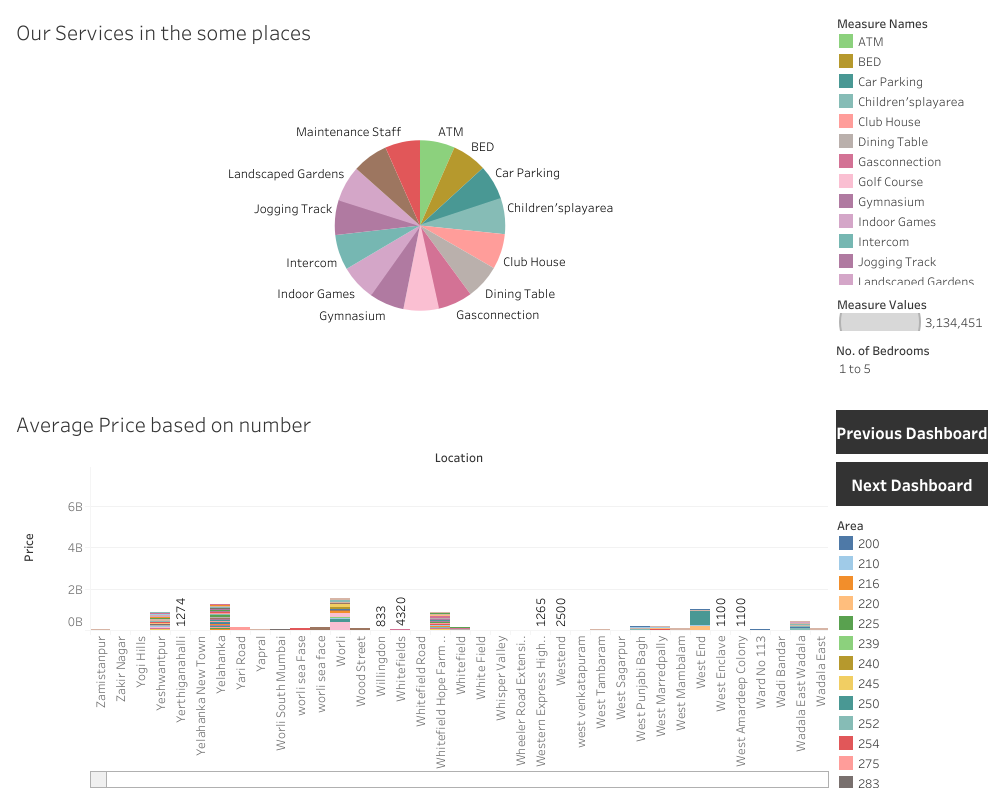

The page's visual inventory and layout, read from the dashboard file:
{"tool":"tableau","page":{"name":"Dashboard 3","canvas":[1000,800],"ordinal":2},"visuals":[{"type":"worksheet","title":"Sheet 9","mark":"Pie","box":[8,8,824,392]},{"type":"legend","title":"Sheet 9","param":"[federated.051ejo61k5k1d71gc72n81ba1xm3].[:Measure Names]","box":[832,8,160,282.5]},{"type":"legend","title":"Sheet 9","param":"[federated.051ejo61k5k1d71gc72n81ba1xm3].[Multiple Values]","box":[832,290.5,160,46]},{"type":"filter","title":"Sheet 5","param":"[federated.051ejo61k5k1d71gc72n81ba1xm3].[attr:No. of Bedrooms:qk]","box":[832,336.5,160,69]},{"type":"worksheet","title":"Sheet 5","mark":"Automatic","rows":["Price"],"cols":["Location"],"box":[8,400,824,392]},{"type":"dashboard-object","box":[832,405.5,160,52]},{"type":"dashboard-object","box":[832,457.5,160,52]},{"type":"legend","title":"Sheet 5","param":"[federated.051ejo61k5k1d71gc72n81ba1xm3].[none:Area:ok]","box":[832,509.5,160,282.5]}]}

Visuals, with their boxes in screenshot pixels (x1, y1, x2, y2), scaled from the page's 1000x800 canvas onto the 999x799 screenshot:
"Sheet 9" worksheet (Pie marks): (8, 8, 831, 400)
"Sheet 9" legend: (831, 8, 991, 290)
"Sheet 9" legend: (831, 290, 991, 336)
"Sheet 5" filter: (831, 336, 991, 405)
"Sheet 5" worksheet: (8, 400, 831, 791)
dashboard-object: (831, 405, 991, 457)
dashboard-object: (831, 457, 991, 509)
"Sheet 5" legend: (831, 509, 991, 791)
